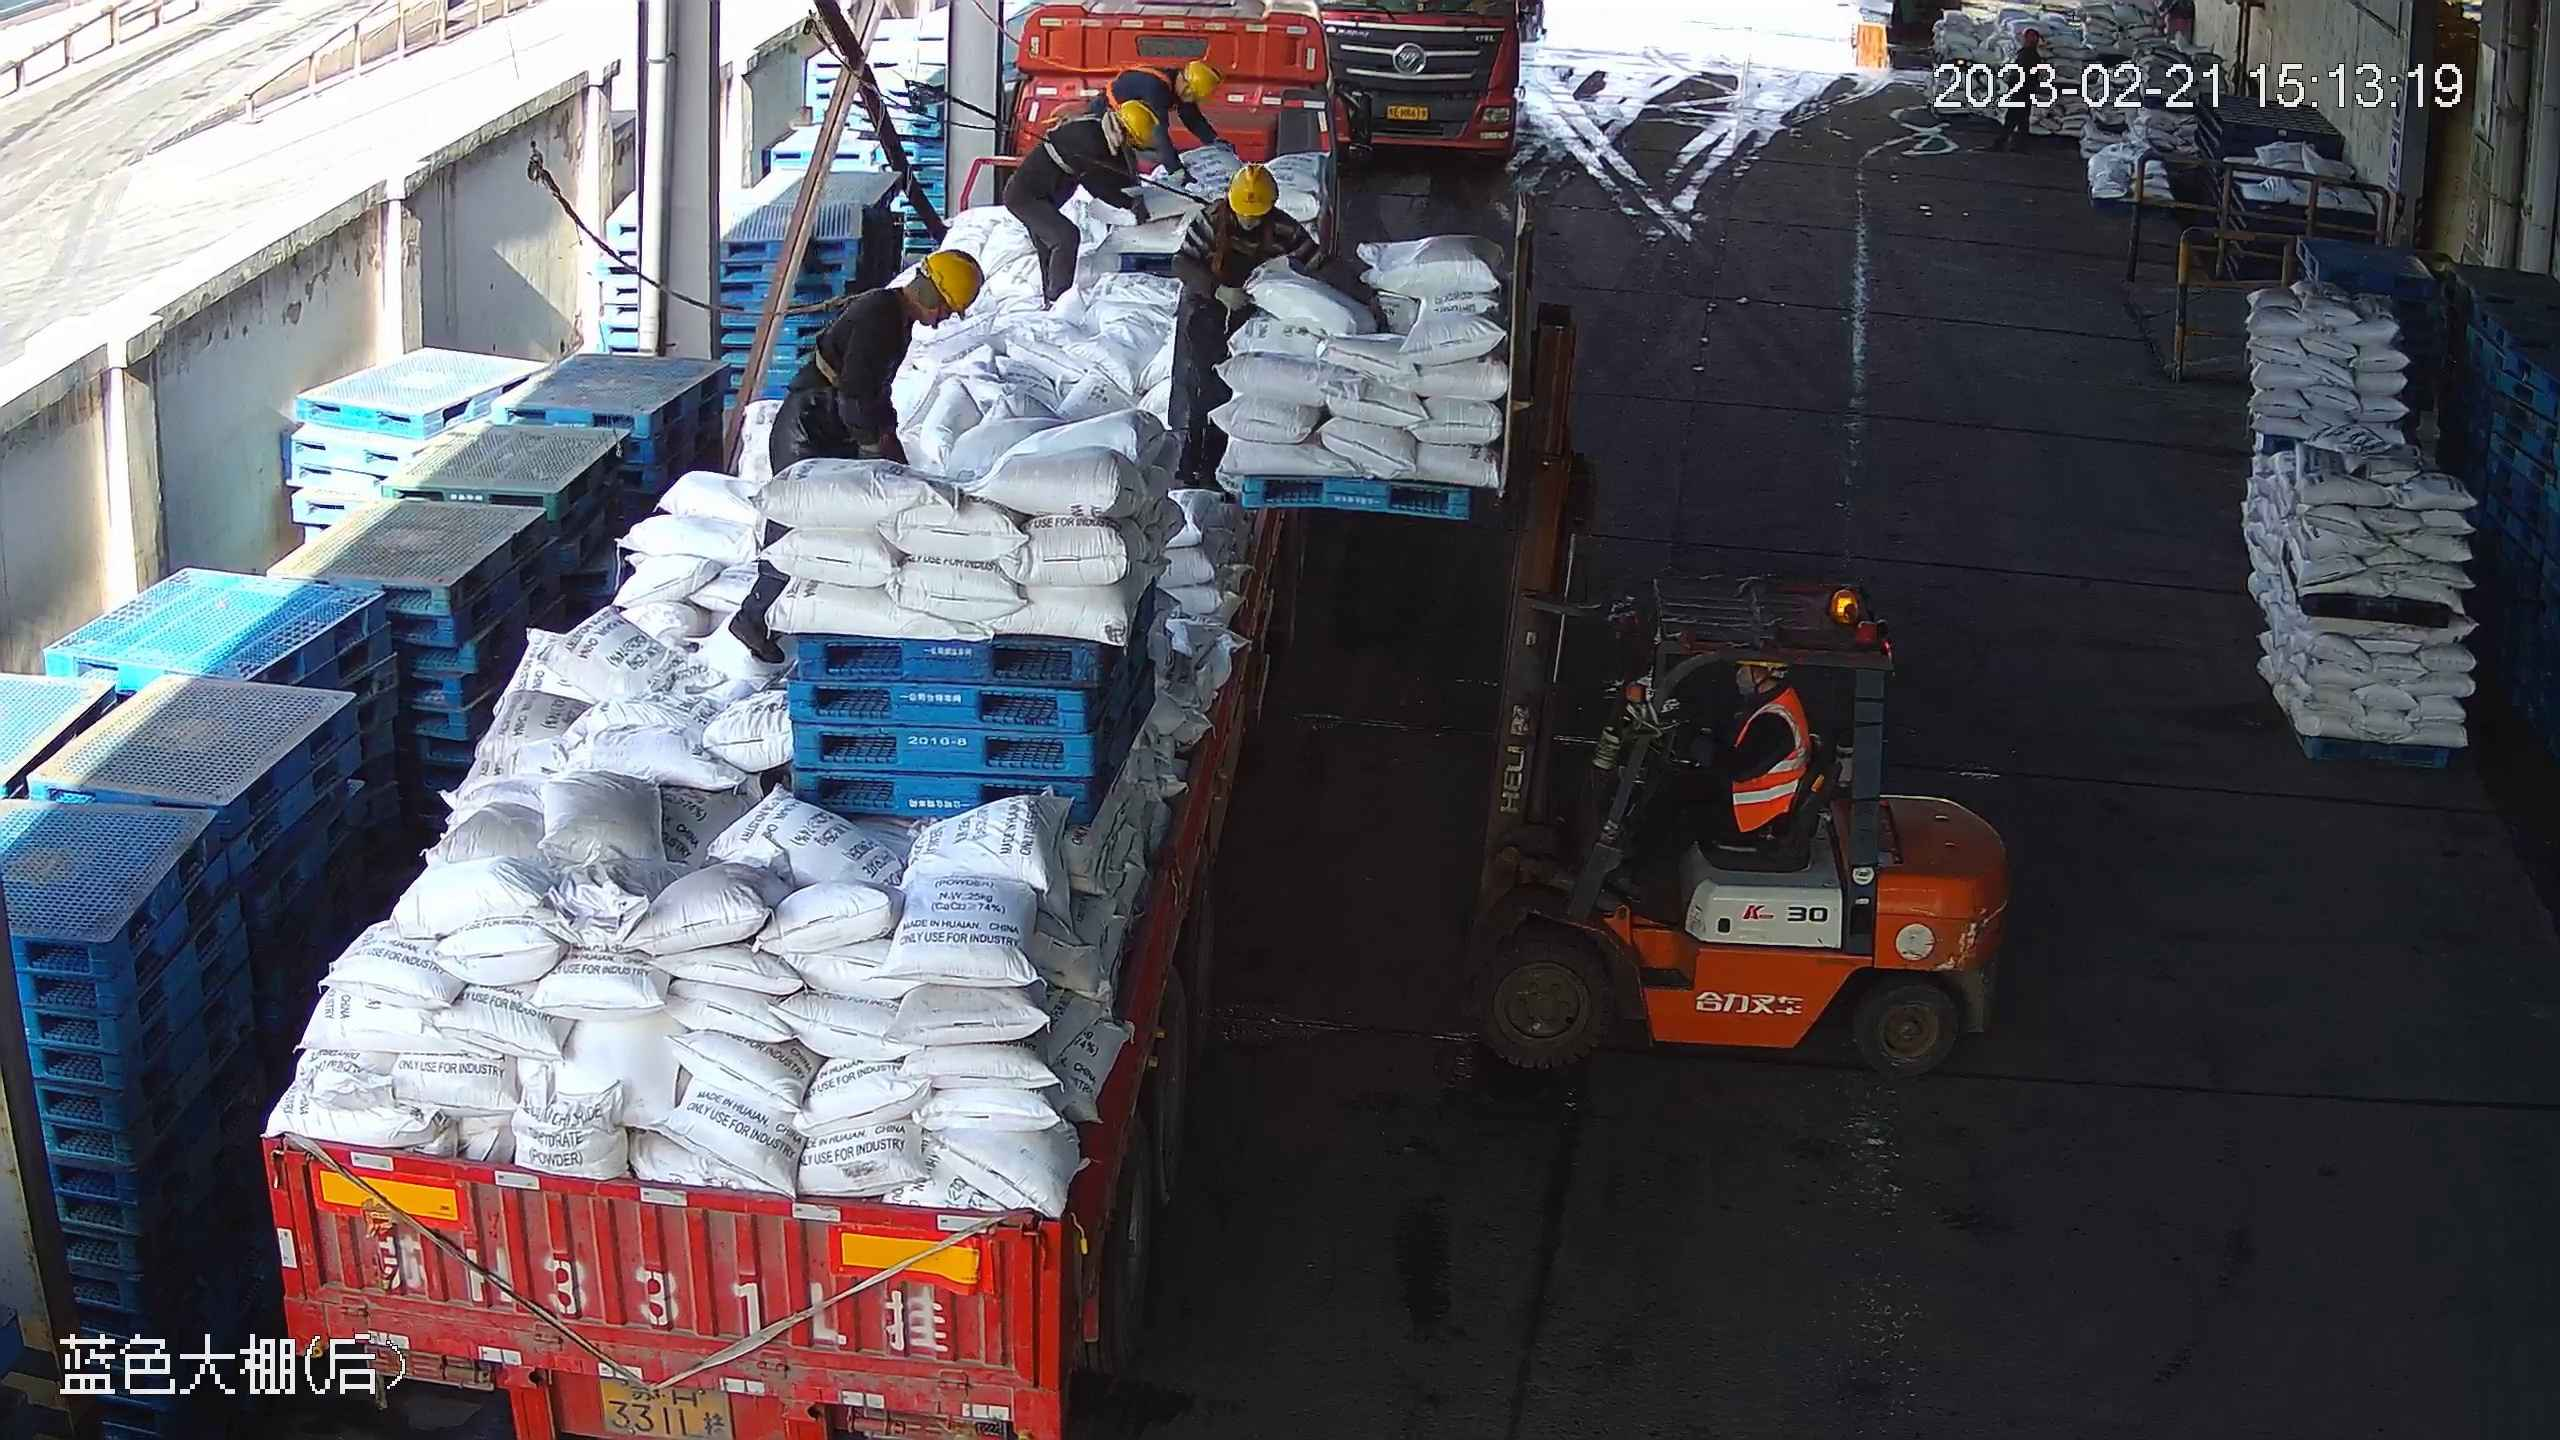belt: (810, 287, 901, 389), (1210, 198, 1277, 279), (1039, 111, 1101, 176), (1104, 62, 1175, 110)
head: (842, 249, 985, 356), (1192, 165, 1294, 239), (1058, 100, 1159, 173), (1140, 61, 1225, 112)
helmet: (923, 249, 985, 321), (1228, 165, 1279, 218), (1116, 99, 1163, 149), (1187, 60, 1223, 103)
people: (727, 248, 986, 662), (1167, 166, 1374, 492), (1605, 659, 1815, 904), (1003, 99, 1161, 313)
truck: (259, 1, 1375, 1440), (1315, 1, 1523, 160)
